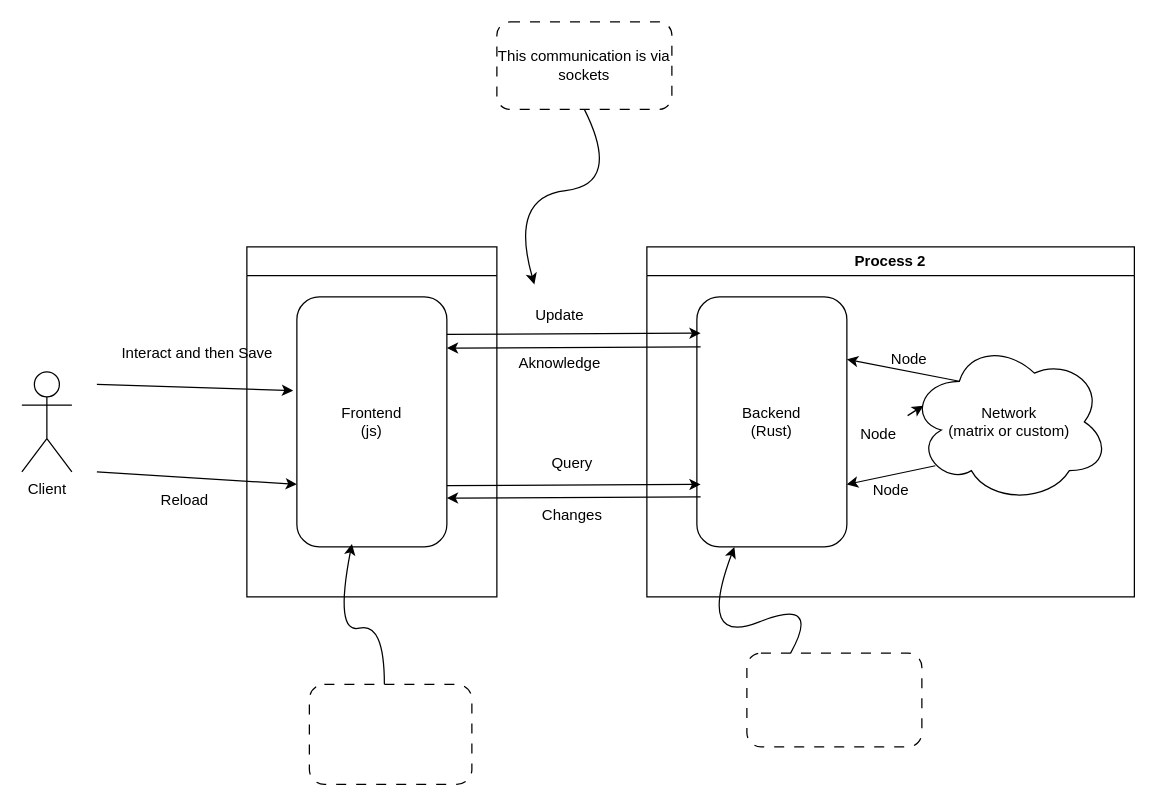
Some shapes in this 1156 by 806 pixel diagram are drawn without their labels. The box of each missing label's shape, as (x1, y1, x2, y2) in pixels:
Merkle Dag is here: (746, 652, 922, 747)
Process 1: (246, 246, 497, 597)
Use delta CRDT lib here: (308, 683, 472, 784)
